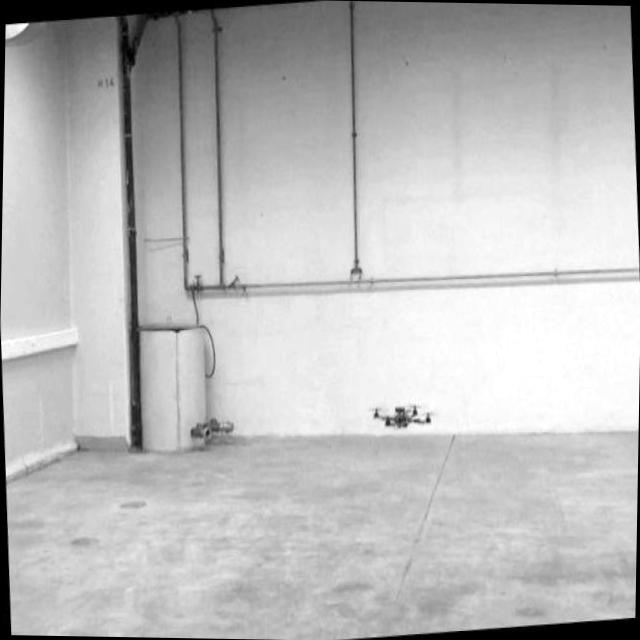drone: (362, 390, 439, 440)
